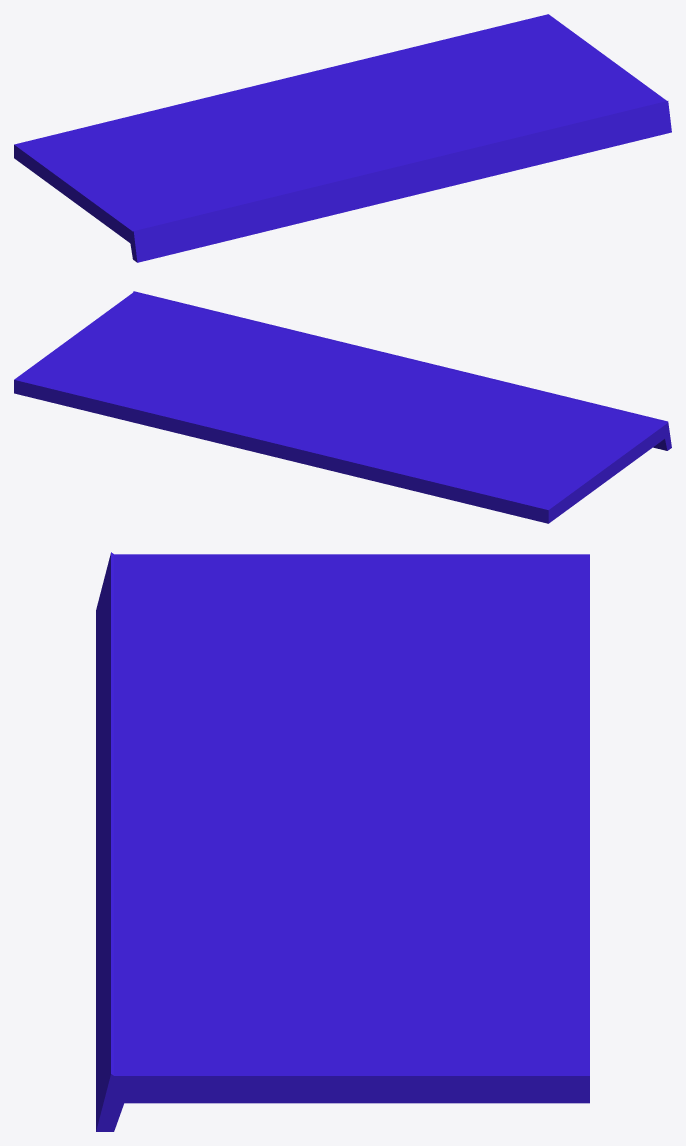
File: shelf.gltf
3 renders of one model, top to bottom at view 1: azimuth 30°, elevation 25°; view 2: azimuth 150°, elevation 25°; view 3: azimuth 270°, elevation 25°, orthographic. The views are drawn at different scales.
Parts seen in each view (by area): view 1: shelf; view 2: shelf; view 3: shelf.
Part boxes in pixels (x1,y1,x2,y2): shelf: (14,14,671,262); shelf: (14,291,671,523); shelf: (96,552,589,1131).
Size of the model in its own units: 1 by 0.0519 by 0.4.
